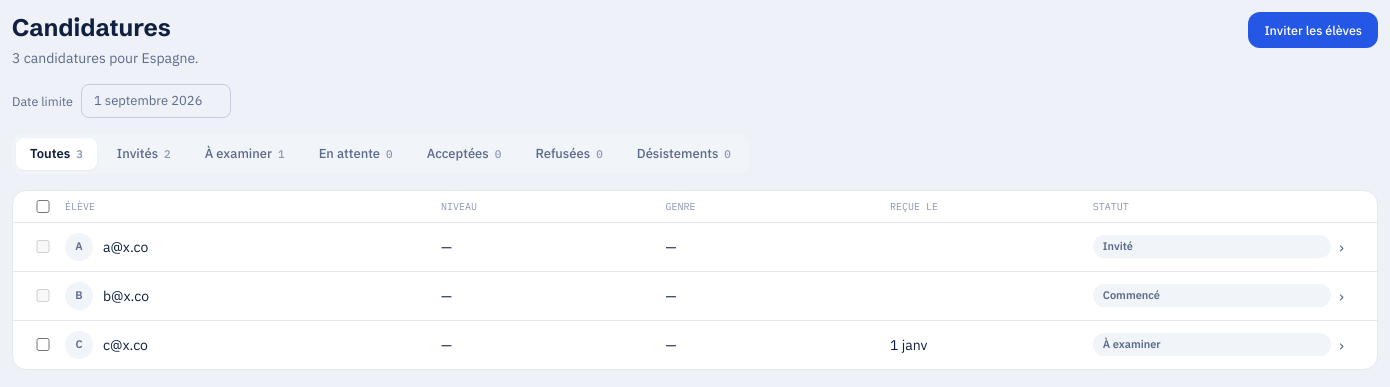
CandidaturesView › the Invités tab shows invited and started rows only
Click the button "Invités 2" at (144, 154), box [103,138,185,170]
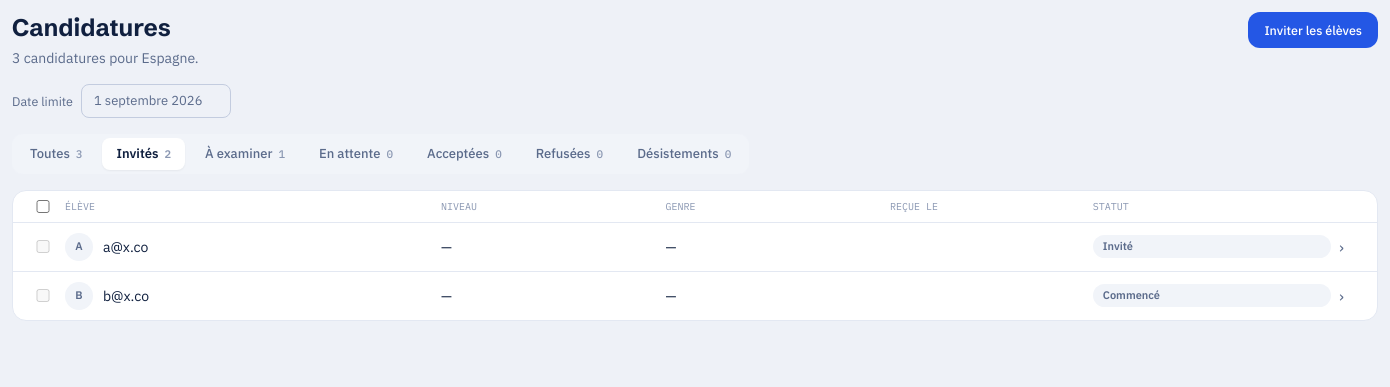
Check: the text "a@x.co" is shown, box [103,236,148,256]
Check: the text "c@x.co" is gone
